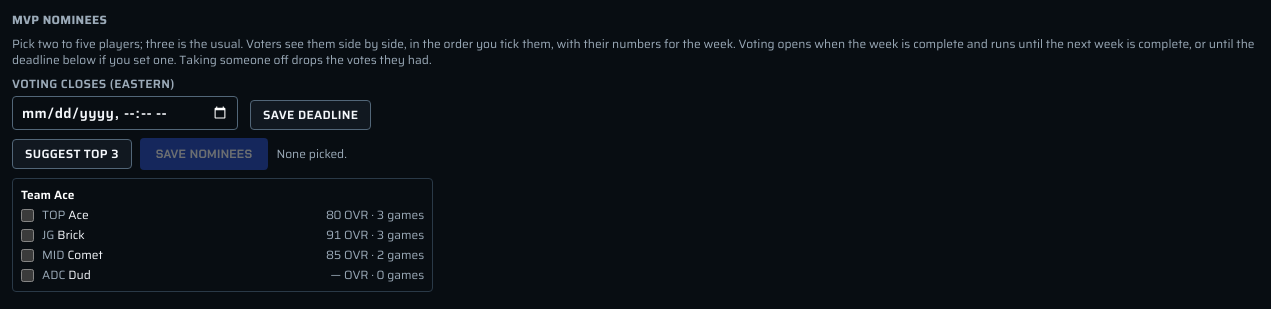
Test: MvpNominees › suggests the week's three best and saves them in order
Expected: the text "91 OVR · 3 games" is shown, [326,227,424,243]
What coordinates should you click on to do the following:
click the button "Suggest top 3"
I would click on:
 (72, 154)
Its box is [12,139,132,169].
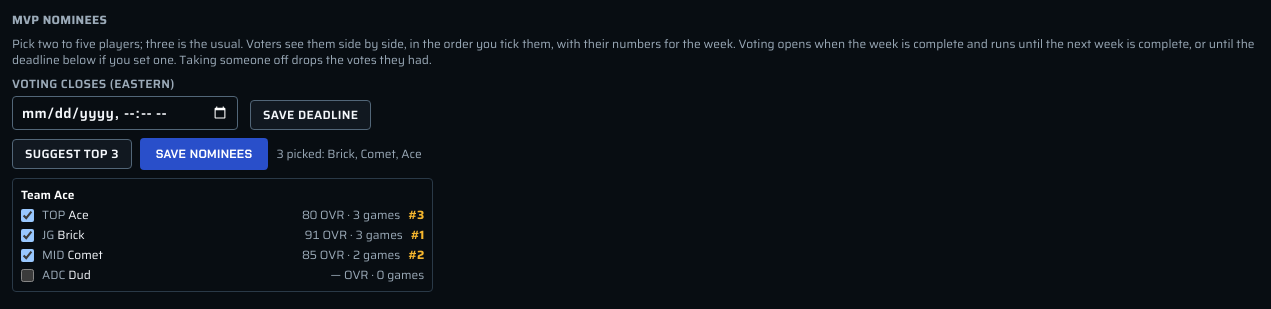
Expected: the text "3 picked: Brick, Comet, Ace" is shown, [276,146,422,162]
What coordinates should you click on to do the following:
click the button "Save nominees"
I would click on:
 (204, 154)
Its box is [140,138,268,170].
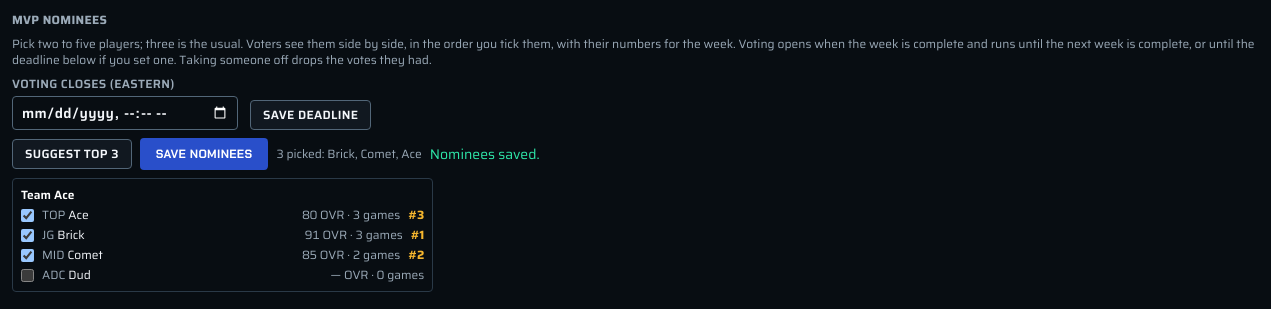
Expected: the text "Nominees saved." is shown, [430,144,540,164]
